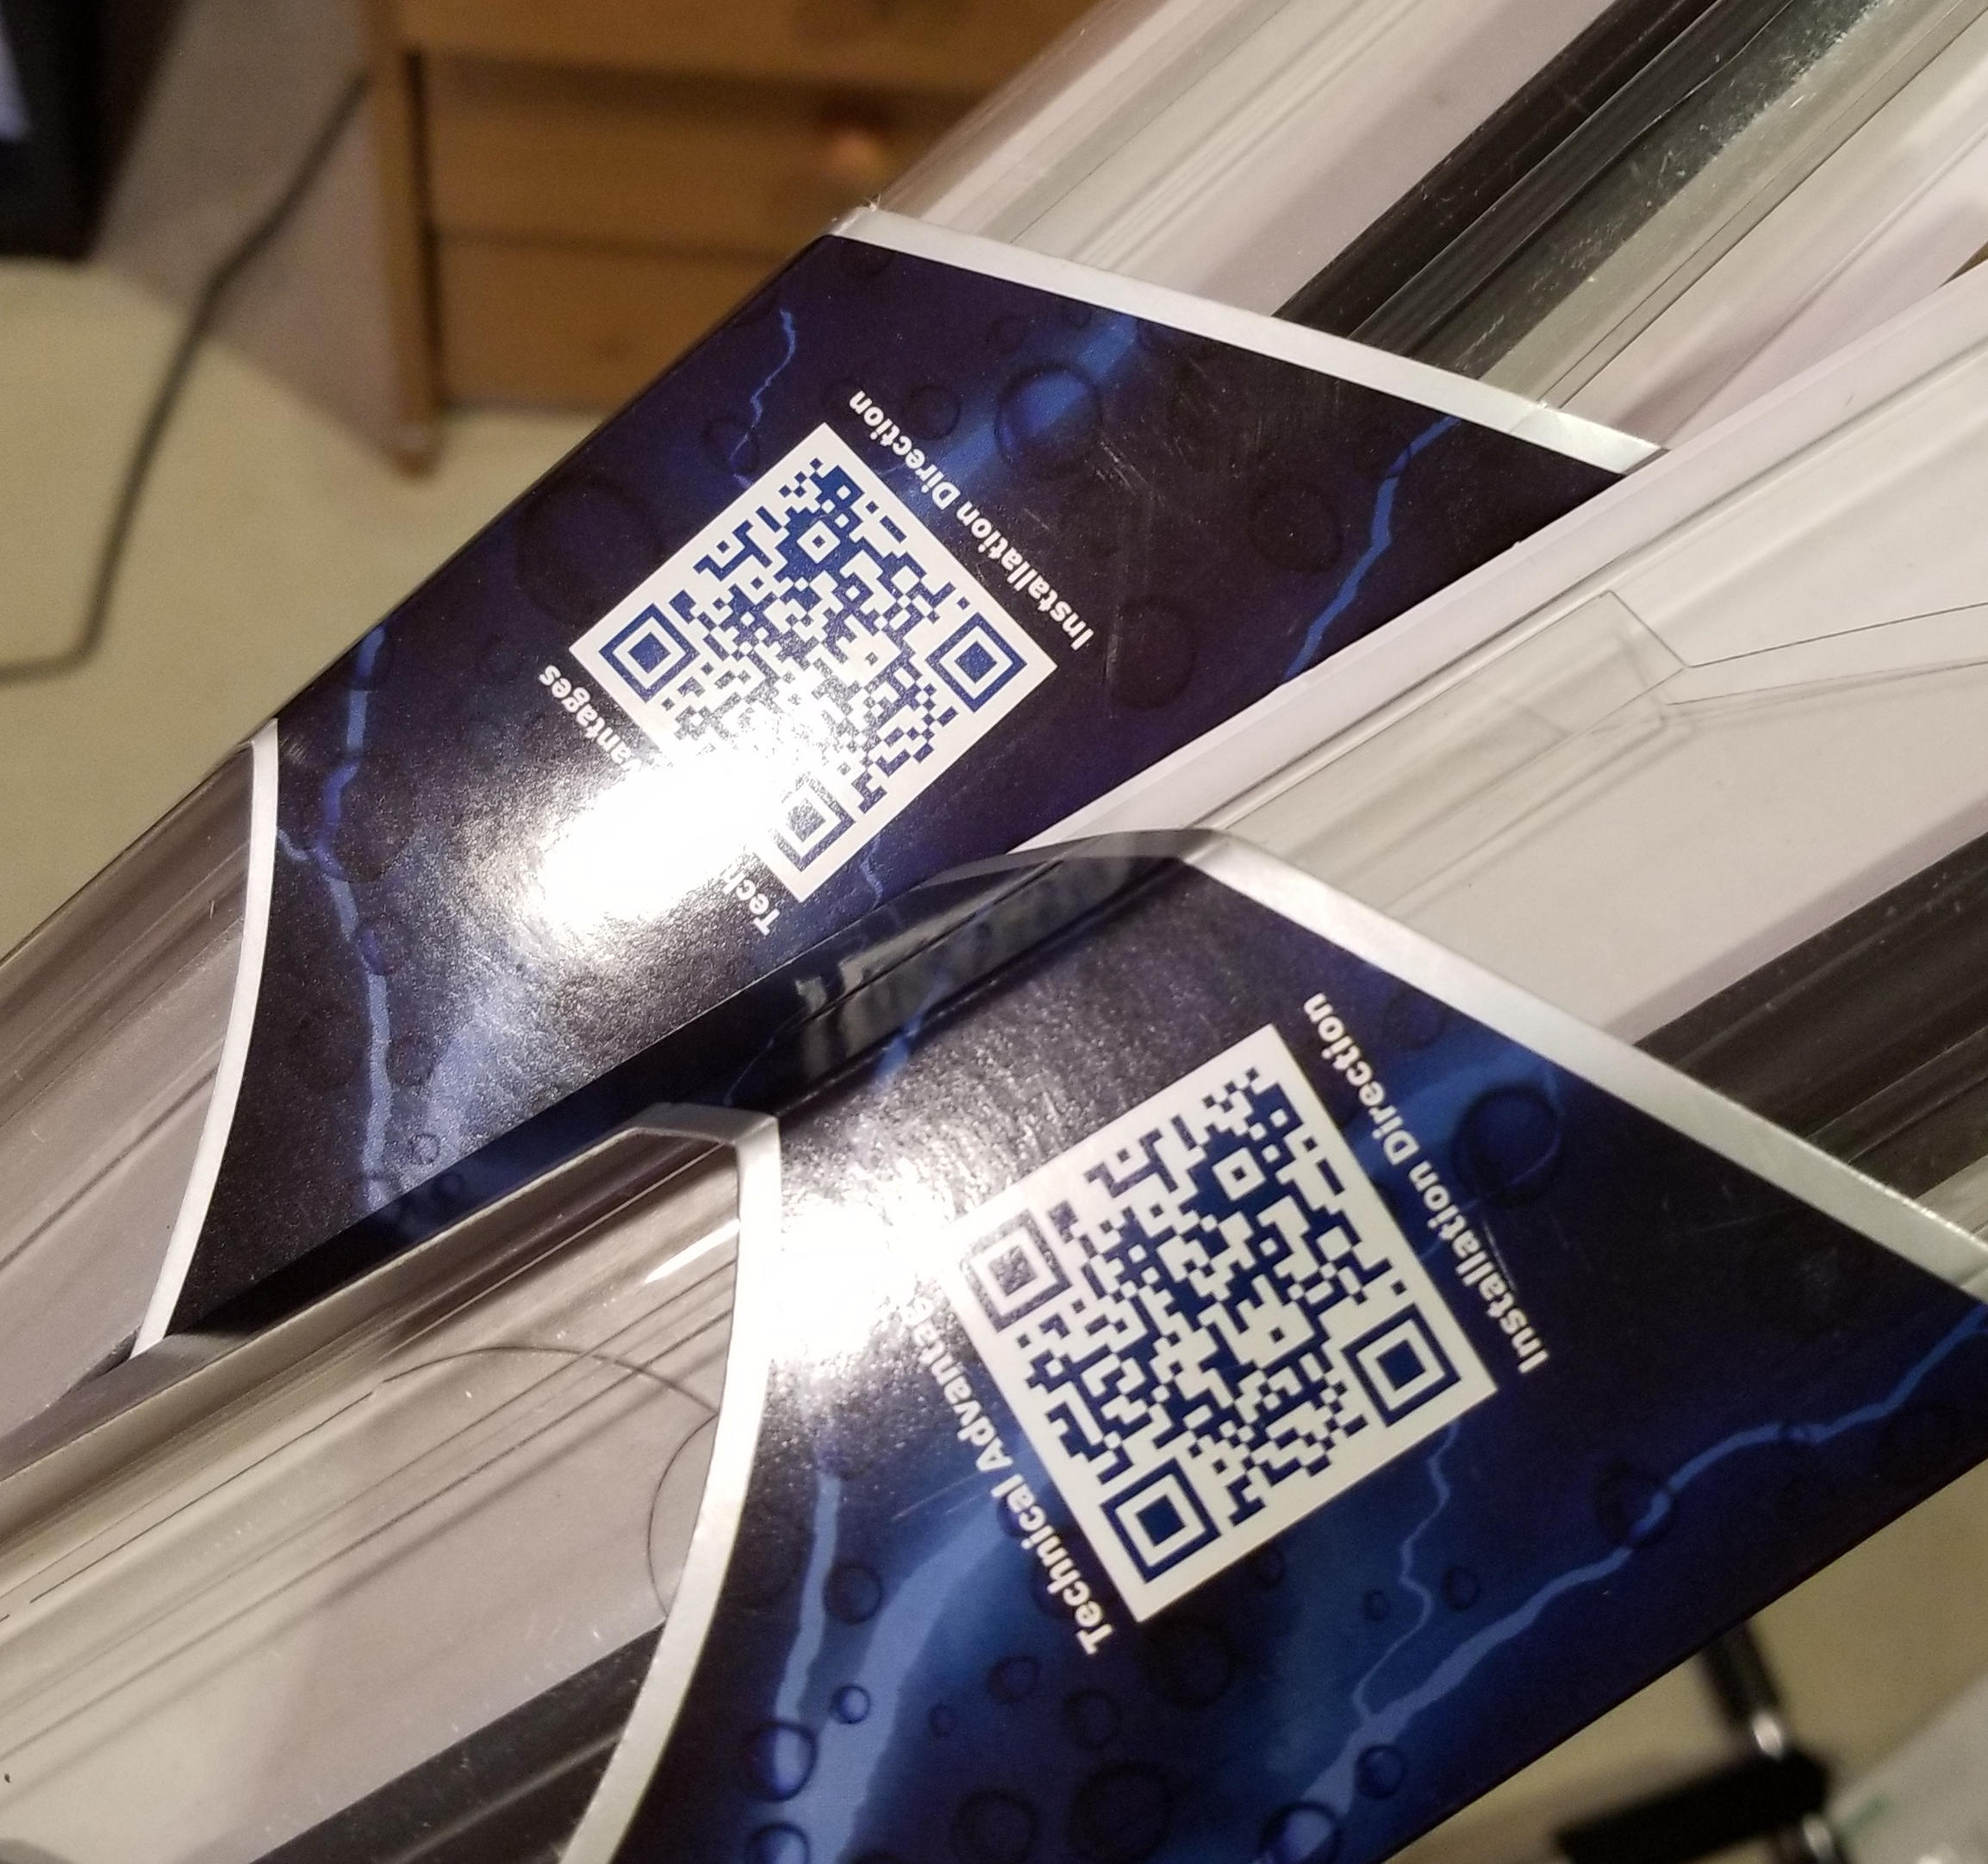QR_CODE: (888, 979, 1524, 1610), (571, 419, 1056, 904)
